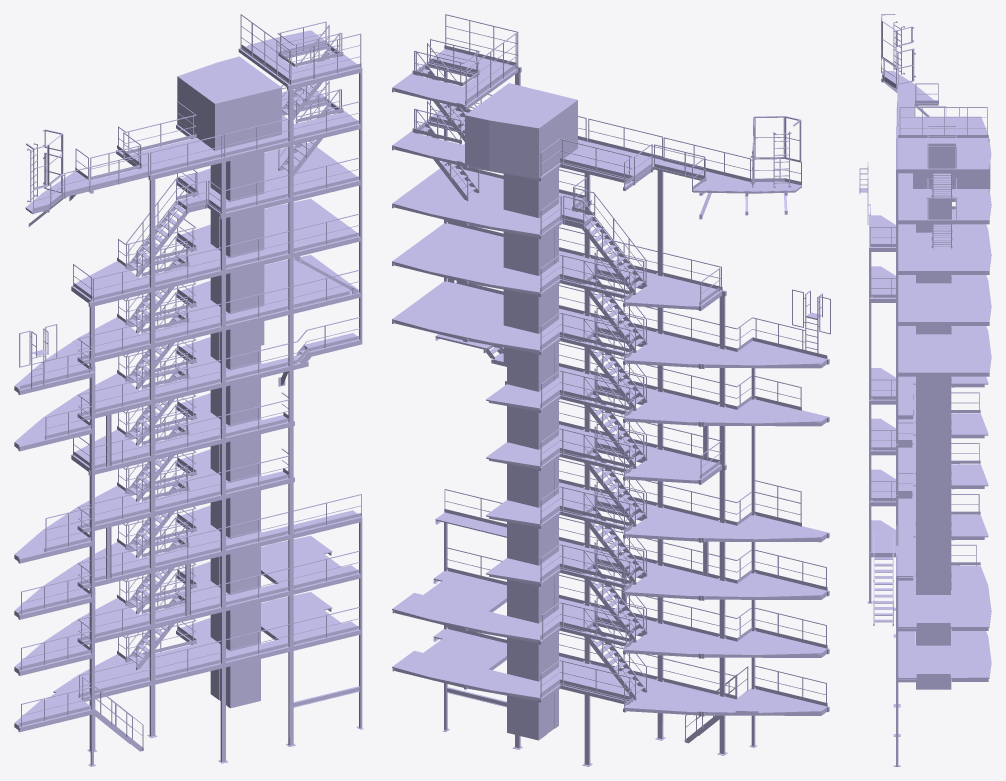
Rendered from Cavern-HO-SideC-cut2.glb.
3 renders of one model, left to right at view 1: azimuth 30°, elevation 25°; view 2: azimuth 150°, elevation 25°; view 3: azimuth 270°, elevation 25°, orthographic. The views are drawn at different scales.
Parts seen in each view (by area): view 1: S__000001C68BFA2960; view 2: S__000001C68BFA2960; view 3: S__000001C68BFA2960.
Boxes of the visible parts, bbox=[...] form: S__000001C68BFA2960: bbox=[14, 14, 363, 766]; S__000001C68BFA2960: bbox=[392, 14, 830, 766]; S__000001C68BFA2960: bbox=[859, 14, 991, 766].
Size of the model in its own units: 16.69 by 30.9 by 5.88.
